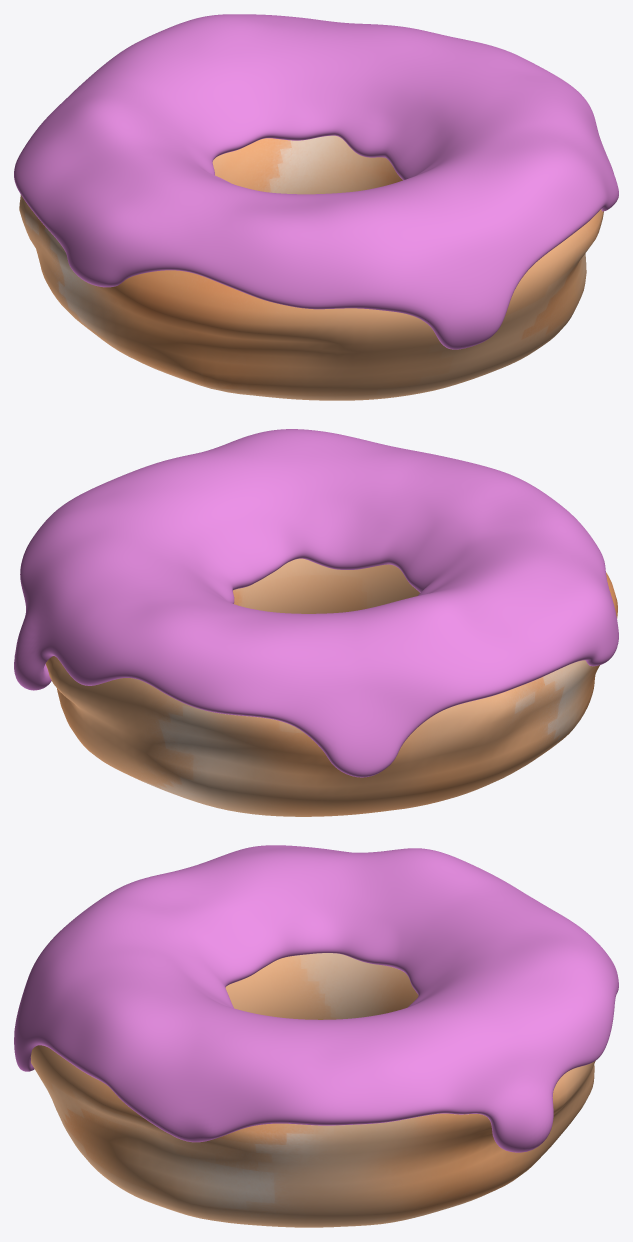
File: BlenderGuruDonutToUnity 1.fbx
3 renders of one model, top to bottom at view 1: azimuth 30°, elevation 25°; view 2: azimuth 150°, elevation 25°; view 3: azimuth 270°, elevation 25°, orthographic.
Parts seen in each view (by area): view 1: glazed, donut; view 2: glazed, donut; view 3: glazed, donut.
Part boxes in pixels (box(x1,y1,x2,y2)): glazed: box(14, 14, 618, 349); donut: box(19, 135, 603, 400); glazed: box(14, 429, 618, 777); donut: box(45, 558, 617, 816); glazed: box(14, 845, 618, 1152); donut: box(30, 953, 595, 1227).
Size of what is drawn, in the model's own units: 15.15 by 5.7 by 15.1.
